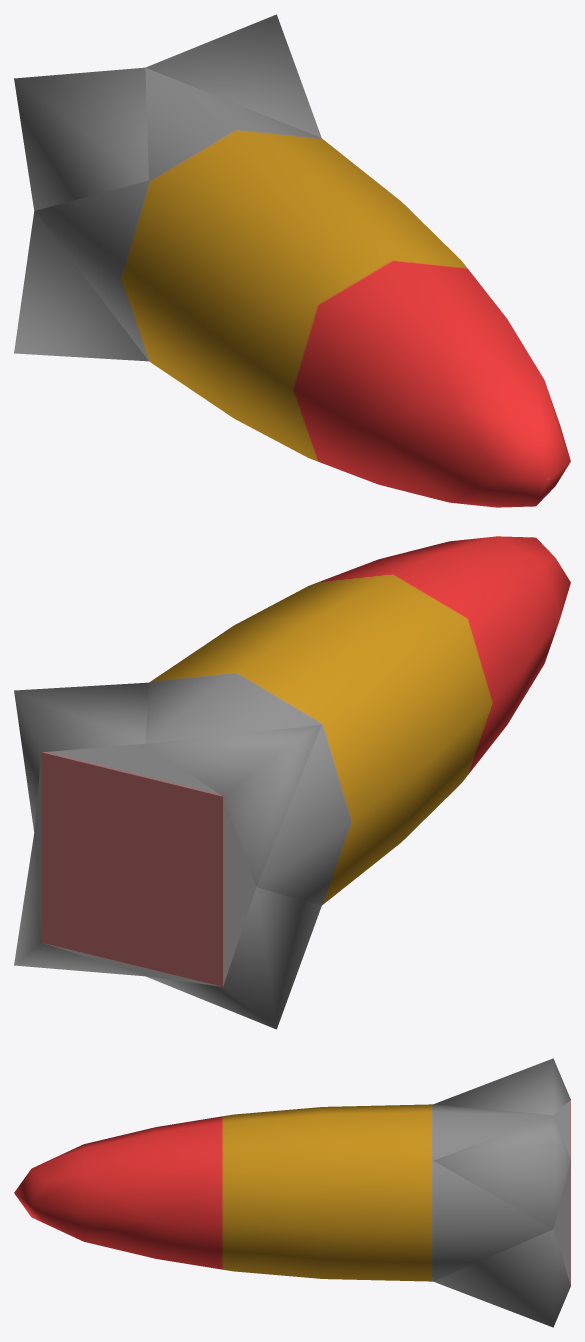
File: rocket.fbx
3 renders of one model, top to bottom at view 1: azimuth 30°, elevation 25°; view 2: azimuth 150°, elevation 25°; view 3: azimuth 270°, elevation 25°, orthographic. The views are drawn at different scales.
Visible parts, largest first — view 1: rocket; view 2: rocket; view 3: rocket.
Part boxes in pixels (box(x1,y1,x2,y2)): rocket: box(14, 14, 570, 507); rocket: box(14, 536, 570, 1029); rocket: box(14, 1058, 570, 1327).
Bounding box in the file's own units: 11.98 × 11.98 × 32.91.
1 material, 1 textured.
